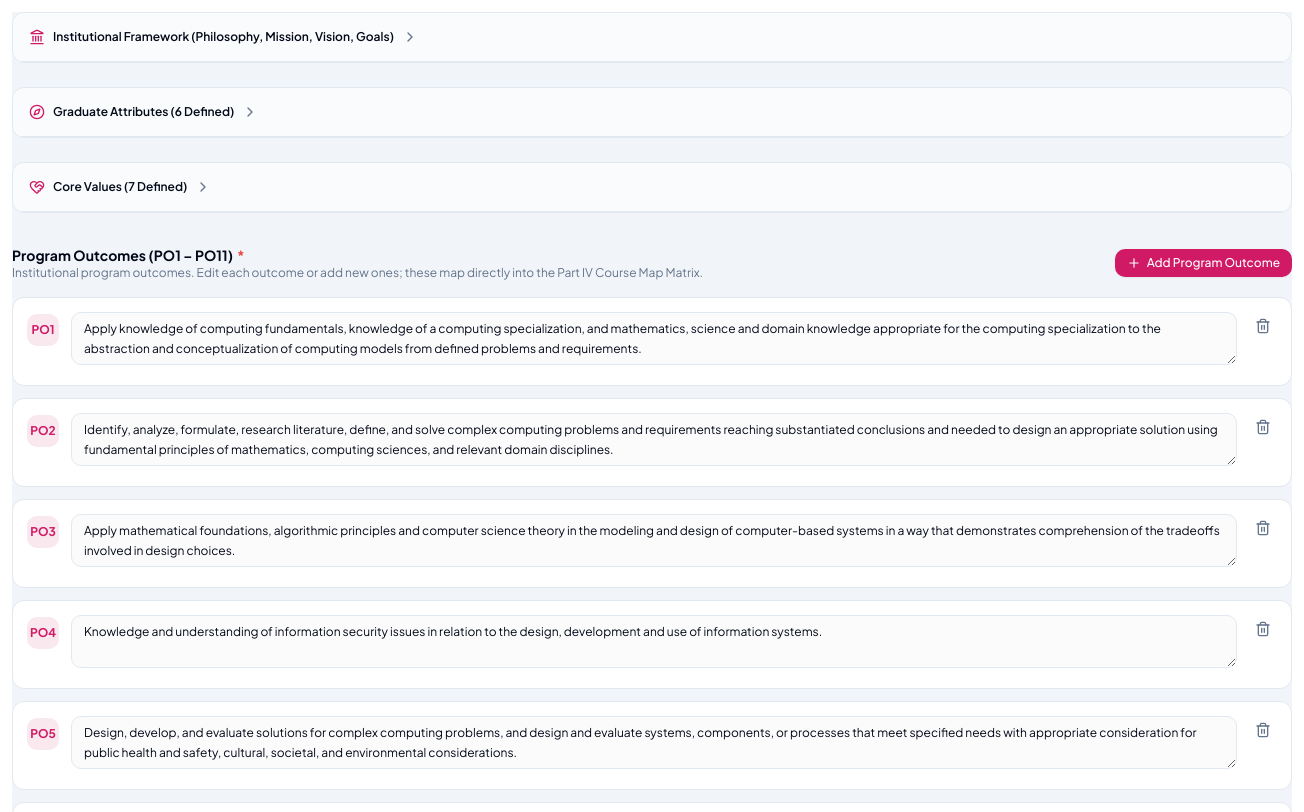
Scenario: Wizard Steps Early › Step 2 pre-fills institutional framework (Philosophy, Mission, Vision, Goals, Graduate Attributes, Core Values) statically from DMMMSU standard even when input
Click the button "Institutional Framework (Philosophy, Mission, Vision, Goals)".
click(223, 37)  # box left=29, top=29, right=418, bottom=45
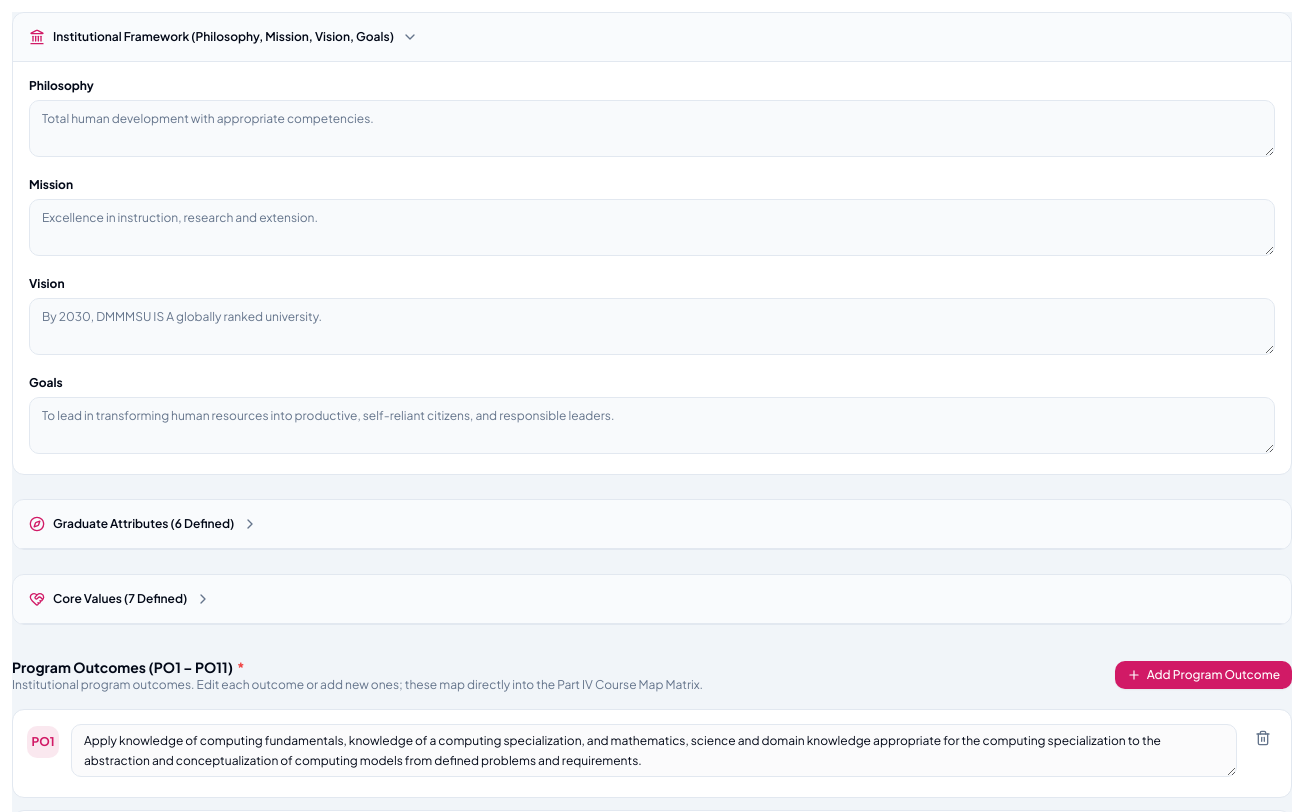
Result: the text box labelled "Philosophy" holds "Total human development with appropriate competencies." at left=29, top=100, right=1275, bottom=157
Result: the text box labelled "Philosophy" is disabled at left=29, top=100, right=1275, bottom=157
Result: the text box labelled "Mission" is disabled at left=29, top=199, right=1275, bottom=256
Toggle Graduate Attributes and verify items are displayed
Click the button "Graduate Attributes (6 Defined)".
click(144, 524)  # box left=29, top=516, right=258, bottom=532
(page scrolled)
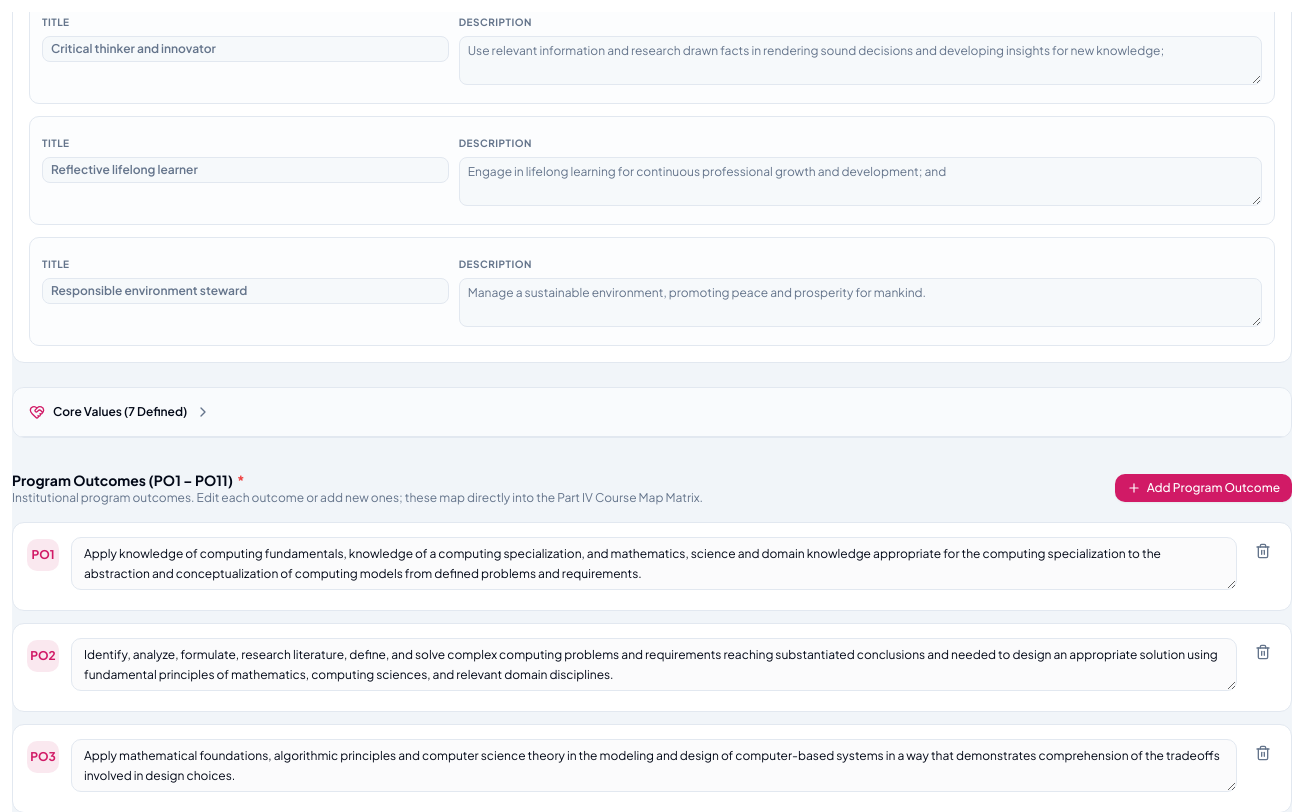
Result: the 3rd field showing "Responsible environment steward" is shown at left=42, top=278, right=449, bottom=304
Toggle Core Values and verify items are displayed
Click the button "Core Values (7 Defined)".
click(120, 412)  # box left=29, top=404, right=211, bottom=420
(page scrolled)
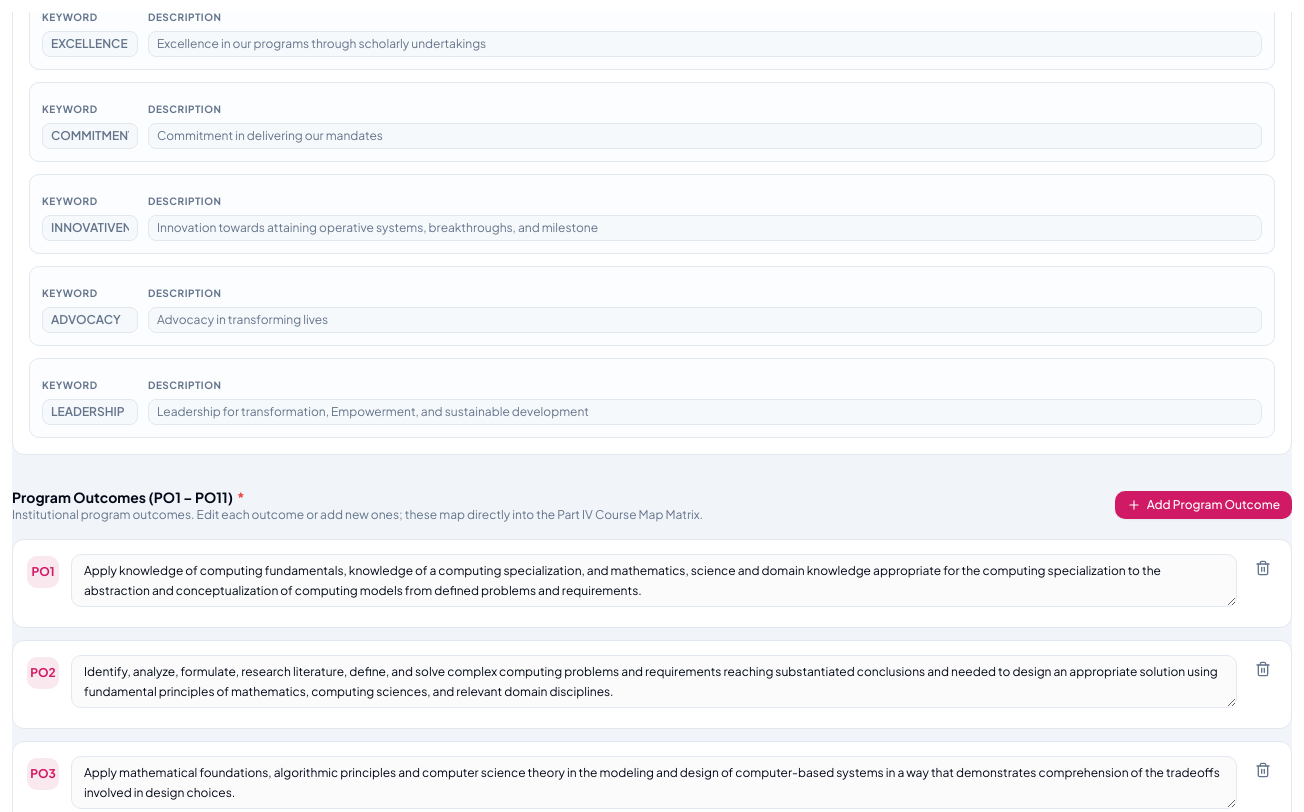
Result: the 9th field showing "LEADERSHIP" is shown at left=42, top=399, right=138, bottom=425
